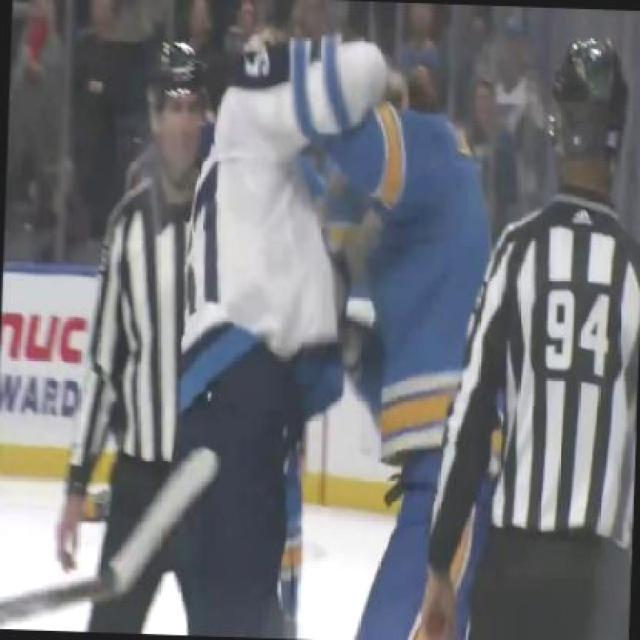fight: (175, 39, 500, 638)
